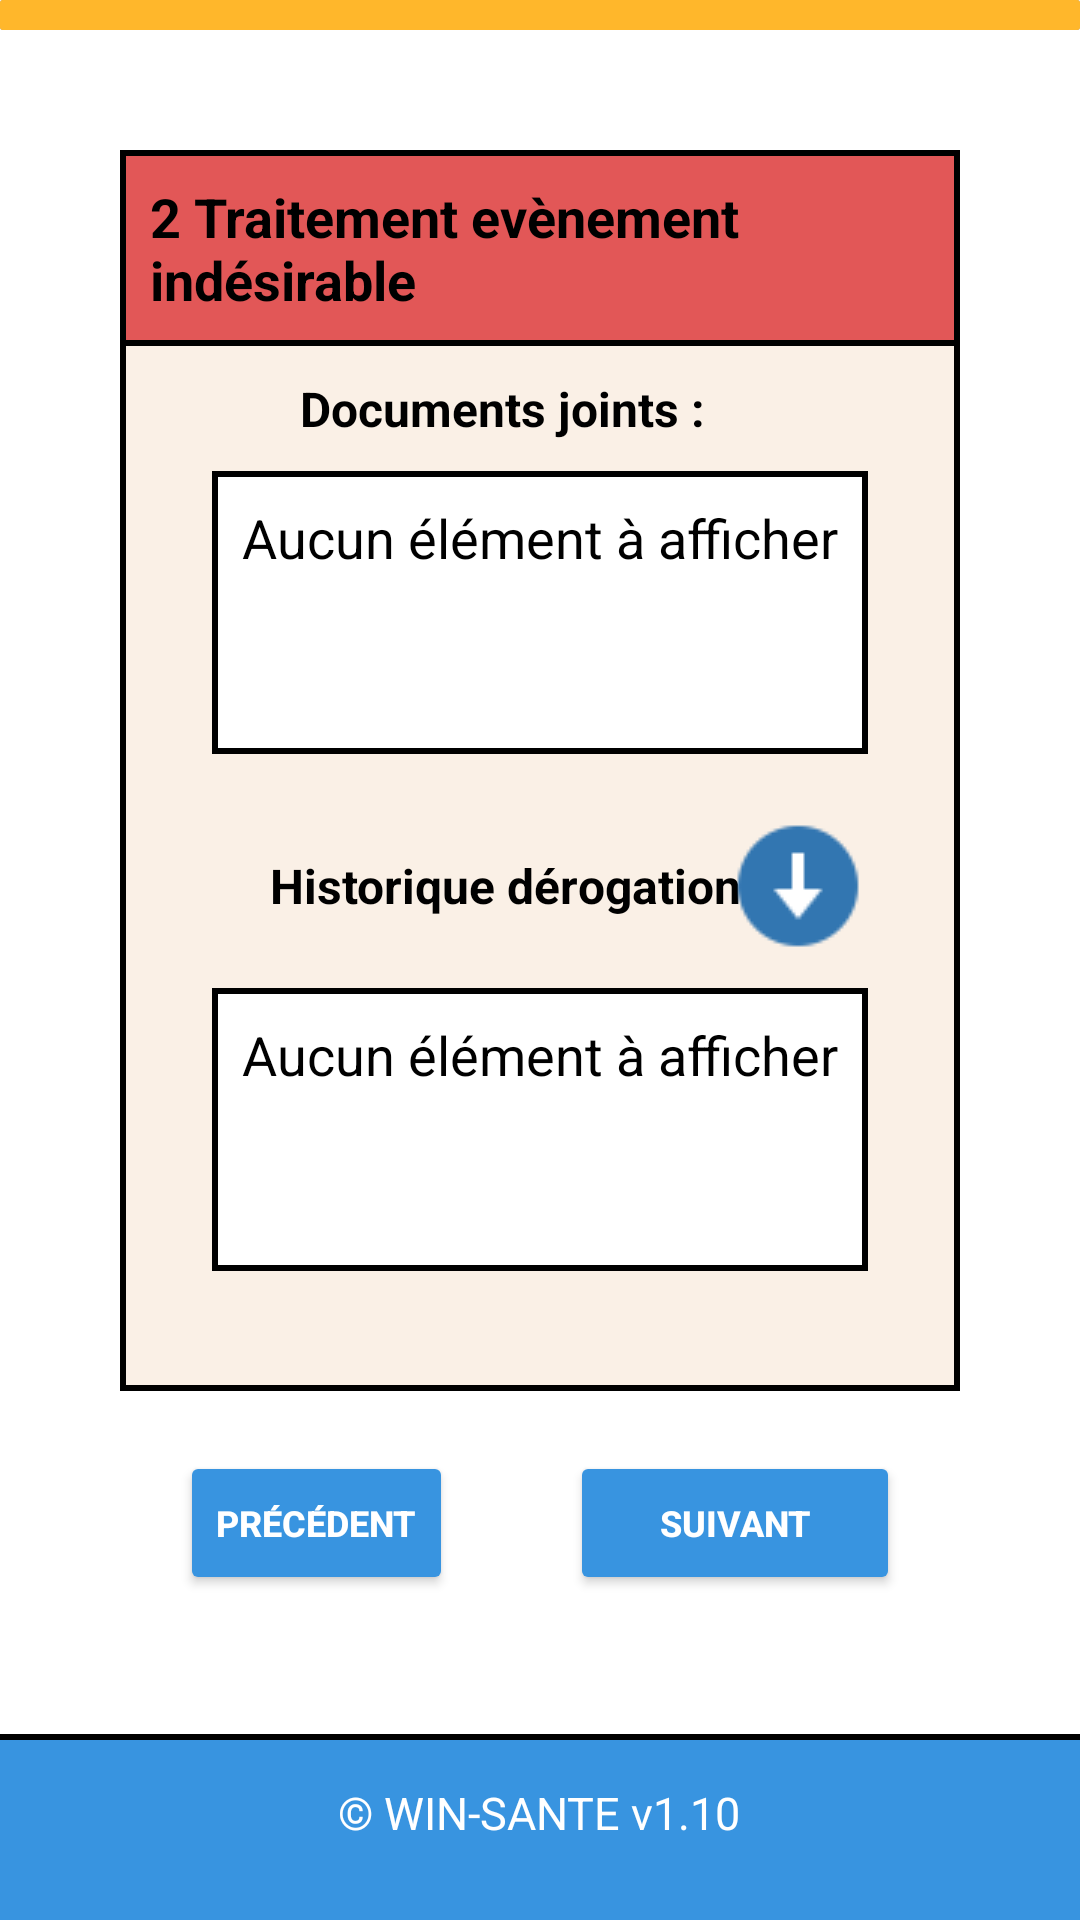

Where icons sit on this 1080x1920 app screen, as [x1,y1,x2,y2]:
below: [726,825,859,947]
